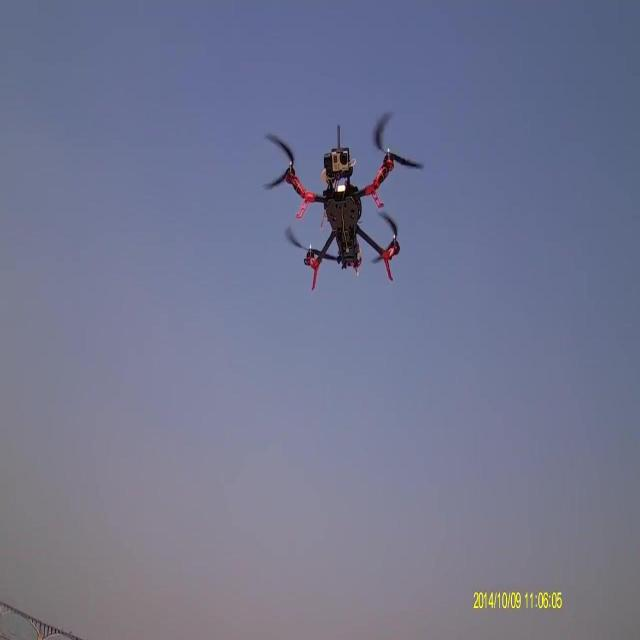drone: (272, 121, 407, 291)
